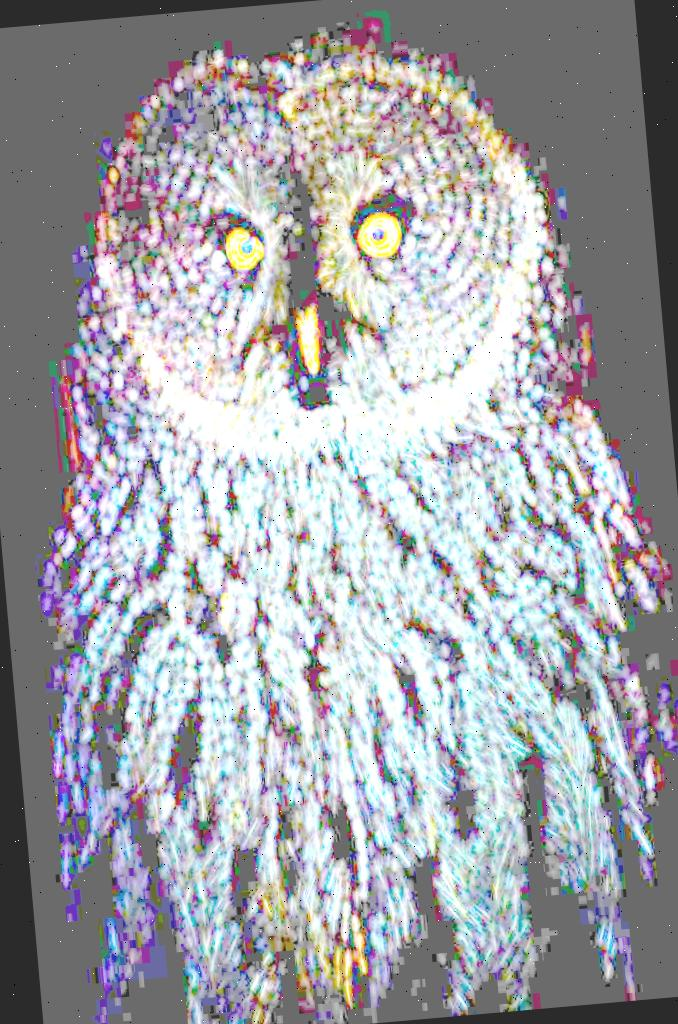Owl: (2, 16, 678, 1024)
